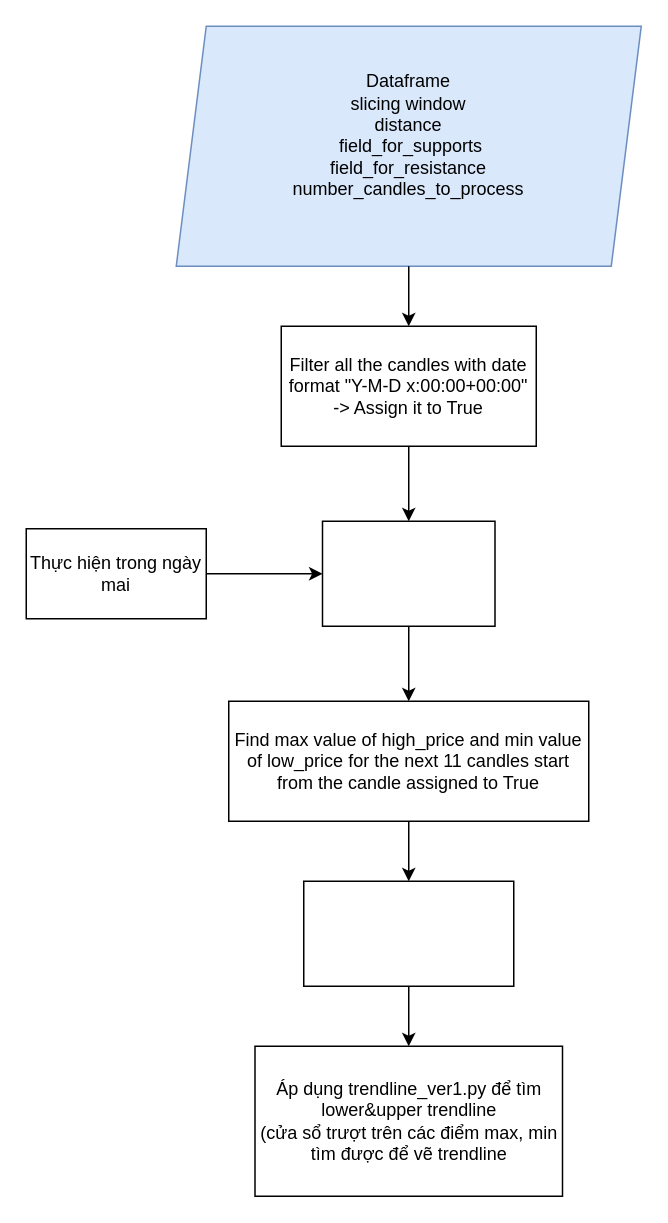
The diagram is 668 pixels wide and 1223 high, and some of its shapes have lost their labels. The centre of each missing label's shape, as x and y in pixels:
"Dùng dataframe.loc -> lọc ra các nến start mà có đủ 11 nến ở sau đó" belongs at [408,573].
"Trong từng đoạn 12 nến đó -> Tìm ra điểm max và min" belongs at [408,933].
